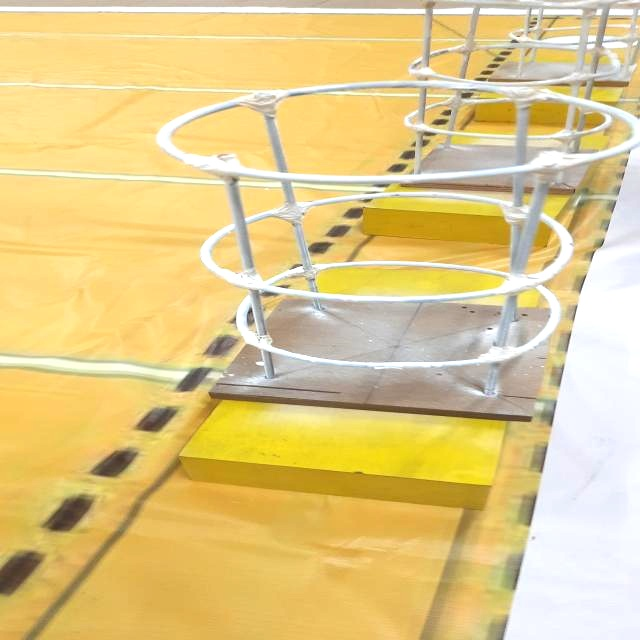silo: (132, 72, 608, 429), (330, 0, 640, 188)
